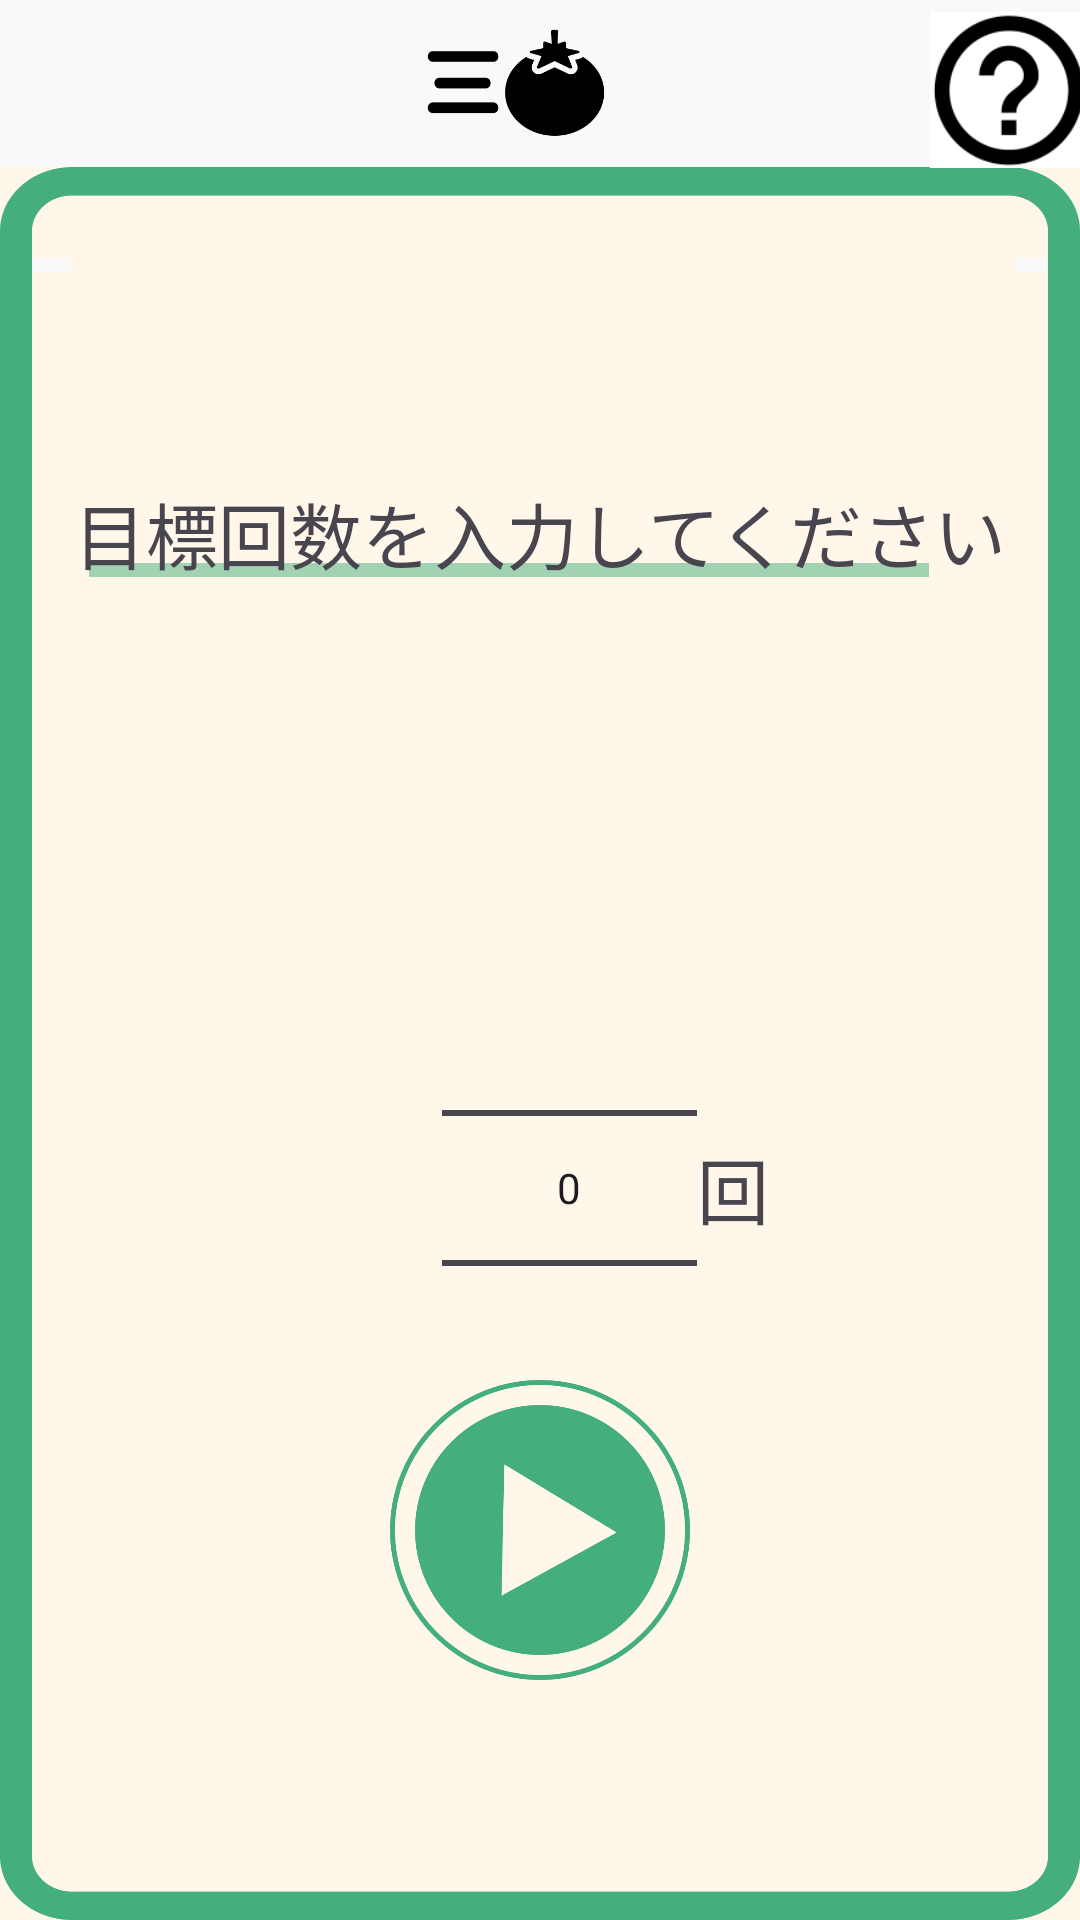

Point at icon controls on the screen. Image size 1080×1920, points as (x=x, y=y).
help: (x=1007, y=90)
po start: (x=540, y=1530)
